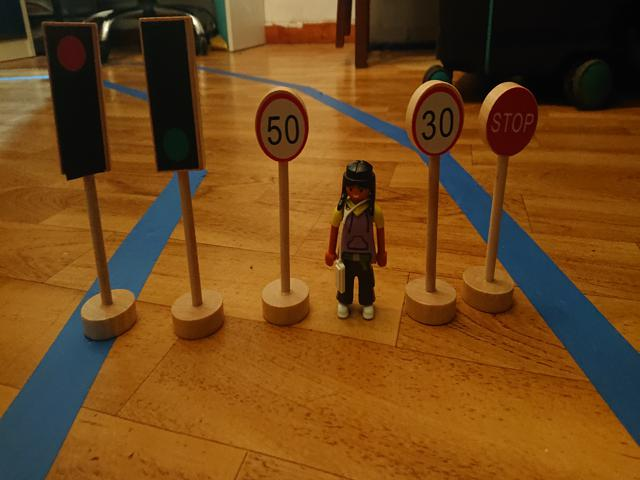30 speed sign: (412, 86, 465, 155)
50 speed sign: (256, 90, 308, 162)
green light: (148, 34, 194, 165)
person: (322, 160, 388, 321)
red light: (49, 27, 95, 163)
stop sign: (487, 86, 541, 158)
